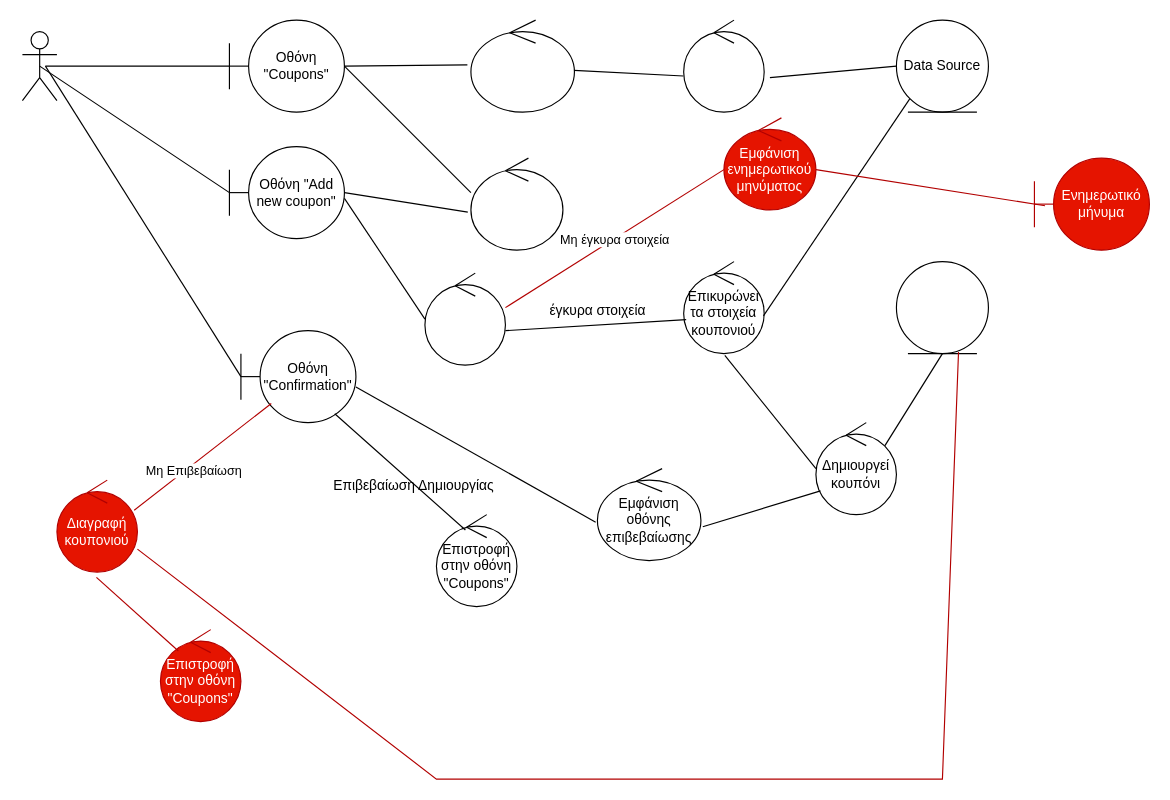
Some shapes in this 1170 by 800 pixel diagram are drawn without their labels. Each missing label, with the centre of its shape:
"Owner" belongs at point (39, 65).
"Ανακτά" belongs at point (723, 65).
"Ελέγχει εγκυρότητα στοιχείων" belongs at point (464, 318).
"Εμφάνιση οθόνης προσθήκης κουπονιού" belongs at point (516, 203).
"Εμφανίζει καταχωρημένα κουπόνια" belongs at point (522, 65).
"Νέο κουπόνι" belongs at point (941, 307).
